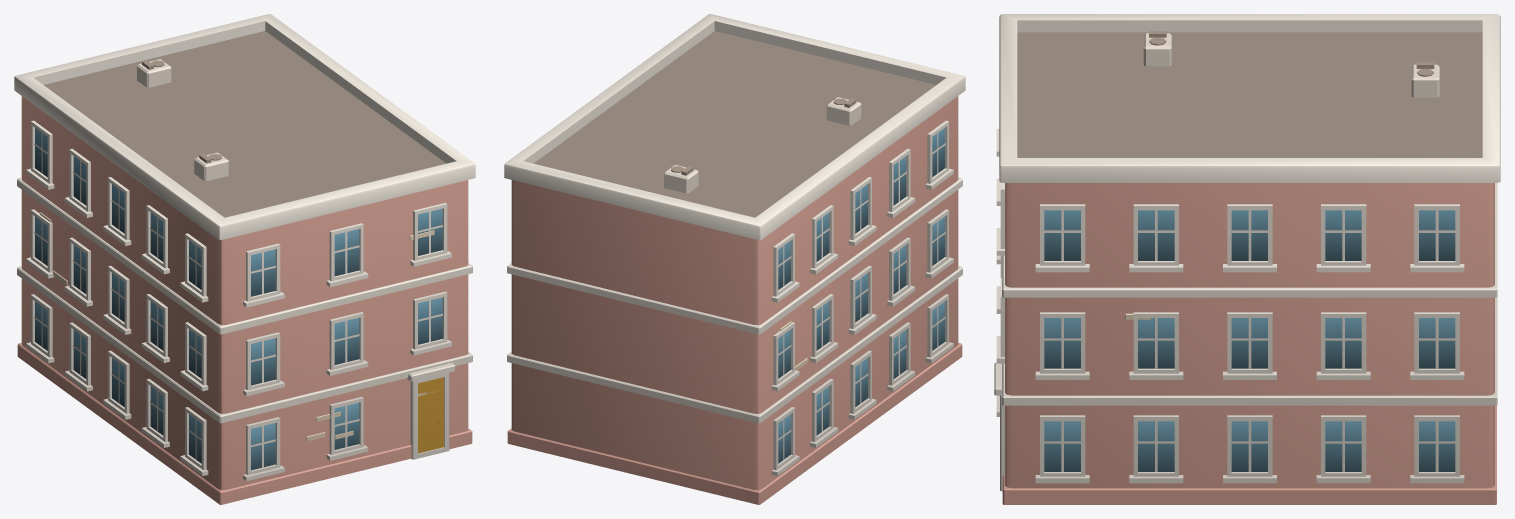
File: boylston_s5.glb
3 views of the same model, side by side, from view 1: azimuth 30°, elevation 25°; view 2: azimuth 150°, elevation 25°; view 3: azimuth 270°, elevation 25° (orthographic). The views are drawn at different scales.
Visible parts, largest first — view 1: boylston_s5; view 2: boylston_s5; view 3: boylston_s5.
Part boxes in pixels (x1,y1,x2,y2): boylston_s5: (14,14,475,504); boylston_s5: (504,14,965,504); boylston_s5: (994,14,1500,504).
Bounding box in the file's own units: 10.48 × 11.11 × 14.46.
Materials: 1 (1 with a texture image).
